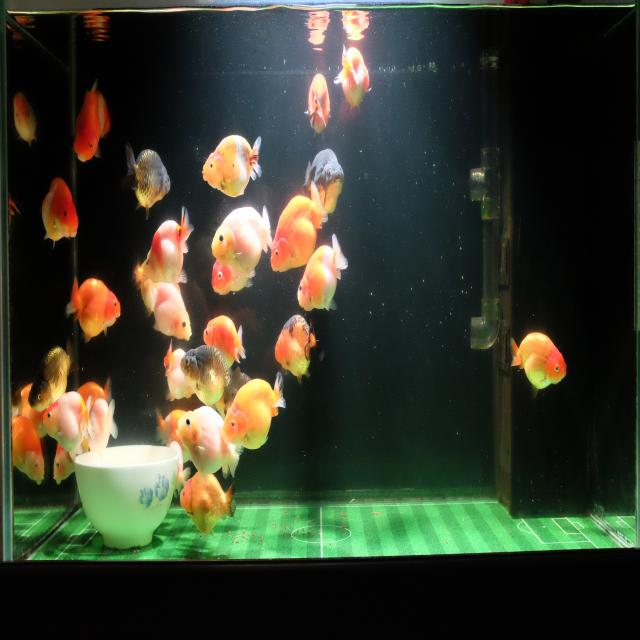Tilapia: (269, 177, 330, 278), (220, 373, 288, 452), (210, 201, 276, 280), (175, 402, 240, 481), (178, 342, 242, 414), (142, 203, 196, 288), (200, 129, 264, 200), (296, 230, 350, 314), (25, 332, 79, 416), (506, 328, 568, 400), (64, 272, 122, 346), (178, 469, 238, 540), (273, 312, 325, 388), (123, 140, 171, 222), (40, 387, 94, 456), (302, 145, 346, 221), (144, 281, 195, 345), (332, 41, 374, 118), (40, 168, 79, 250), (70, 75, 104, 168), (201, 312, 248, 373), (12, 411, 45, 491), (303, 66, 332, 144), (209, 257, 257, 302), (86, 396, 120, 456), (11, 86, 39, 152), (52, 440, 75, 490)
